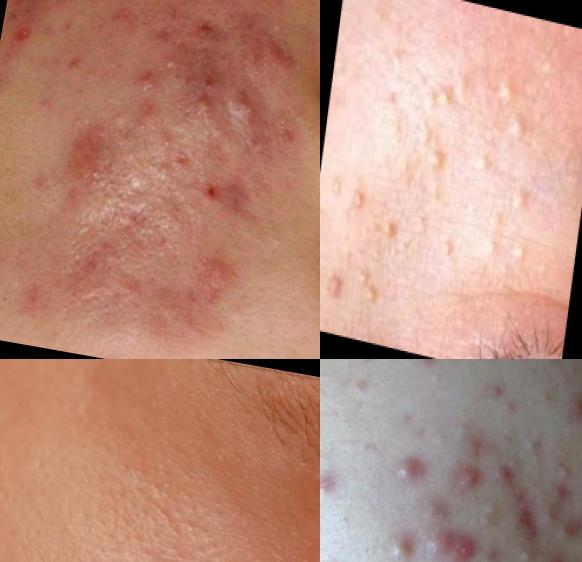milium: (401, 58, 476, 125), (321, 255, 393, 322), (408, 114, 458, 184), (480, 205, 531, 266), (493, 82, 532, 150), (341, 179, 373, 228), (504, 178, 533, 226), (374, 211, 404, 247), (436, 237, 460, 269)
papular: (414, 515, 490, 562), (379, 447, 436, 503), (444, 460, 498, 507), (488, 453, 530, 491), (459, 434, 496, 472), (321, 464, 352, 507), (554, 385, 582, 430), (380, 523, 412, 562), (7, 28, 40, 60), (543, 476, 575, 508), (557, 516, 582, 549), (232, 91, 261, 115), (411, 360, 451, 375)
purulent: (192, 92, 223, 124)
whitehead: (501, 520, 548, 562), (470, 494, 510, 534), (154, 47, 193, 81), (549, 445, 578, 486), (267, 13, 297, 45), (492, 391, 525, 420), (522, 433, 551, 463), (450, 416, 477, 445), (421, 367, 448, 392), (160, 126, 184, 151), (429, 427, 454, 451), (84, 164, 107, 188), (336, 512, 358, 535), (80, 113, 102, 132), (321, 553, 347, 562)
